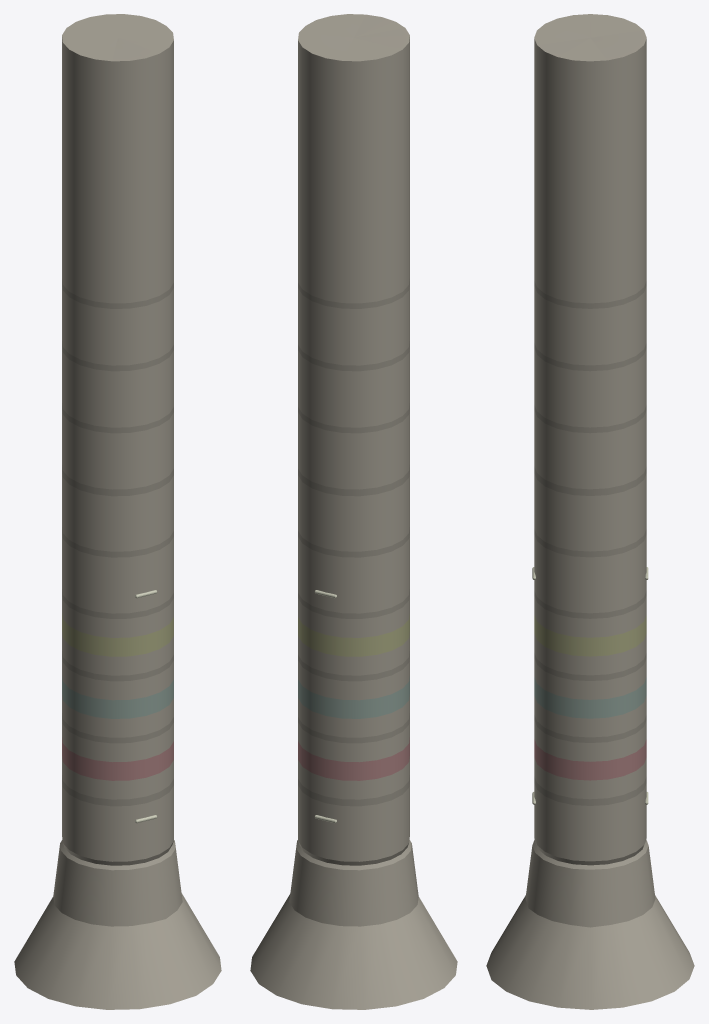
File: Concrete_Pillar_Simple.fbx
The picture shows the model from 3 angles, left to right: view 1: azimuth 30°, elevation 25°; view 2: azimuth 150°, elevation 25°; view 3: azimuth 270°, elevation 25°; orthographic projection.
Parts seen in each view (by area): view 1: polySurface4; view 2: polySurface4; view 3: polySurface4.
Boxes of the visible parts, left/top/right/bottom form: polySurface4: left=14, top=14, right=221, bottom=1009; polySurface4: left=250, top=14, right=457, bottom=1009; polySurface4: left=486, top=14, right=694, bottom=1009.
Bounding box in the file's own units: 4.18 × 20.65 × 4.2.
